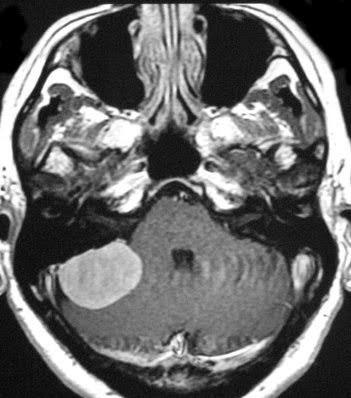Tumour-Meningioma: (50, 234, 153, 320)
